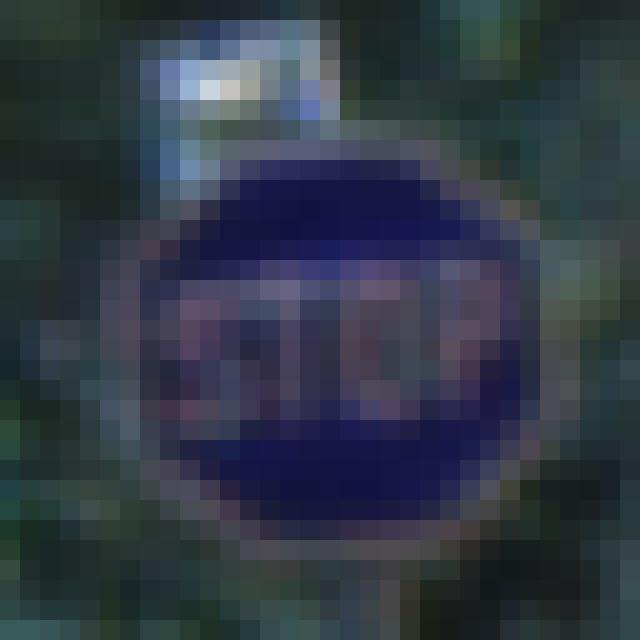STOP: (140, 152, 548, 544)
